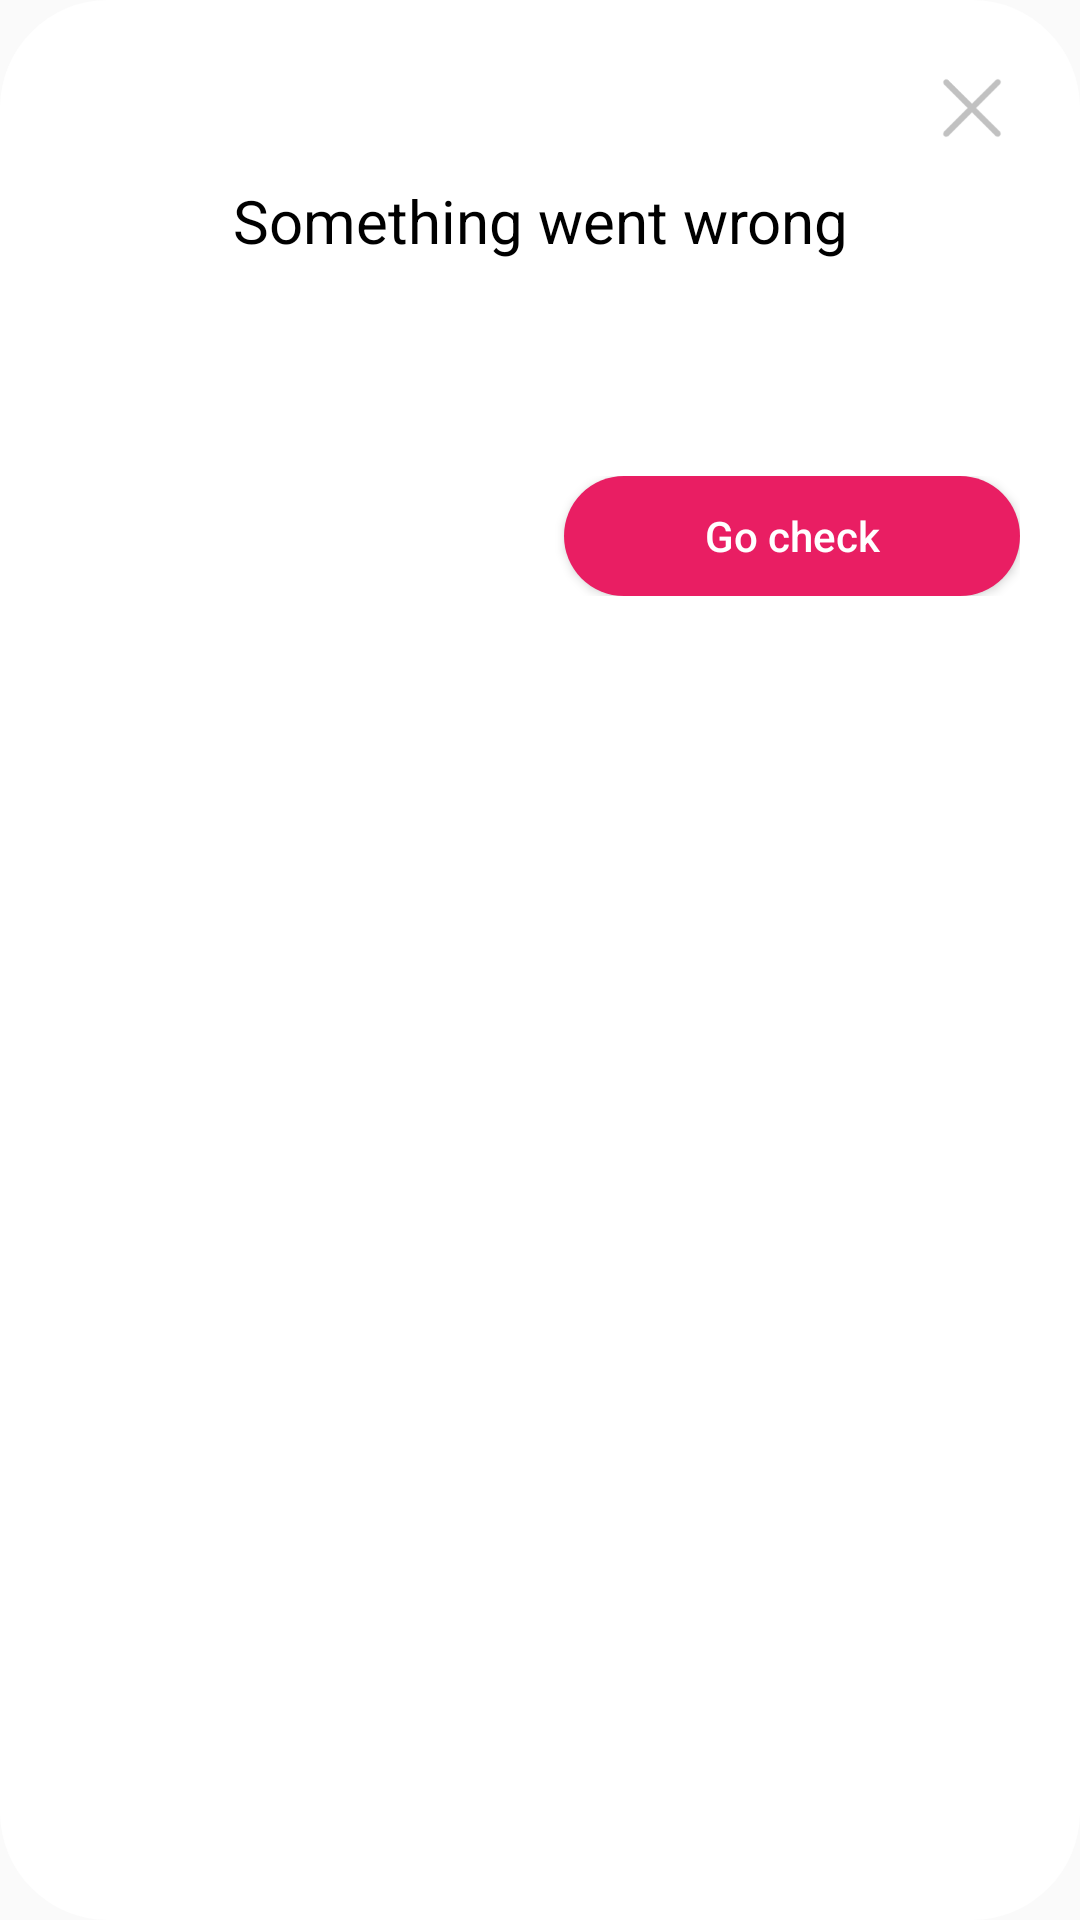

Icons on this 1080x1920 Android screen, each with its box as (x1, y1, x2, y2):
close: (943, 79, 1001, 137)
